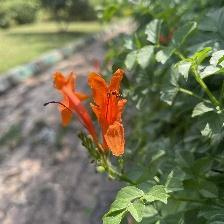honeysuckle: (88, 70, 131, 159)
